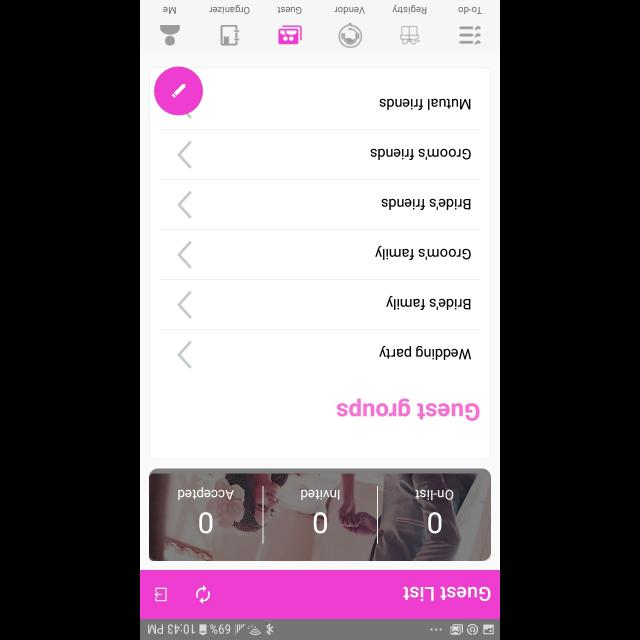icon: (154, 66, 202, 116), (176, 339, 192, 368), (176, 291, 192, 319), (176, 241, 192, 269), (176, 191, 192, 219), (176, 141, 192, 169), (160, 24, 180, 46), (278, 26, 302, 44), (220, 25, 240, 45), (459, 26, 481, 44), (400, 27, 420, 46), (196, 584, 210, 604), (155, 586, 167, 602)
image: (149, 468, 491, 560), (338, 22, 362, 48)
text: (336, 398, 479, 422), (374, 246, 470, 260), (379, 346, 471, 360), (404, 586, 491, 600), (370, 148, 470, 160), (386, 296, 470, 310), (380, 98, 470, 110), (382, 198, 471, 210), (178, 486, 234, 499), (414, 490, 454, 500), (300, 490, 340, 500), (392, 5, 426, 15), (209, 6, 249, 14), (427, 511, 441, 533), (313, 511, 327, 533), (199, 511, 213, 533), (334, 6, 366, 14), (458, 6, 482, 14), (277, 6, 301, 14), (164, 6, 176, 14)
uppertaskbar: (140, 618, 500, 640)
